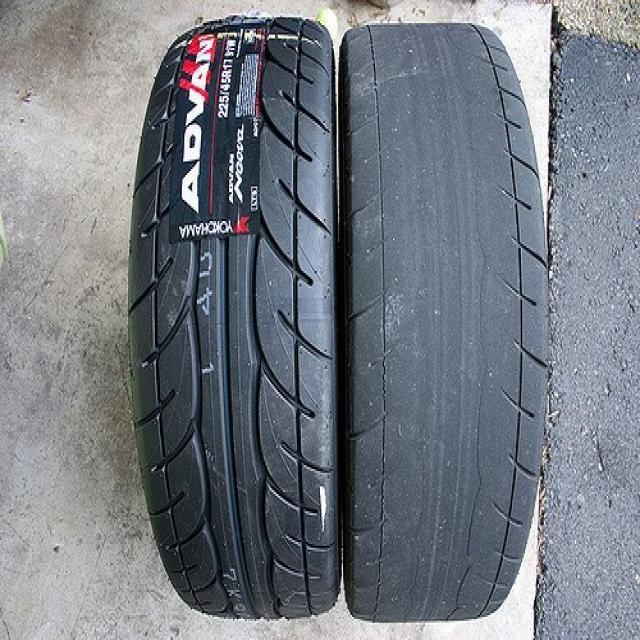Flat spots: (347, 42, 494, 596)
Non-defective: (166, 39, 332, 578)
